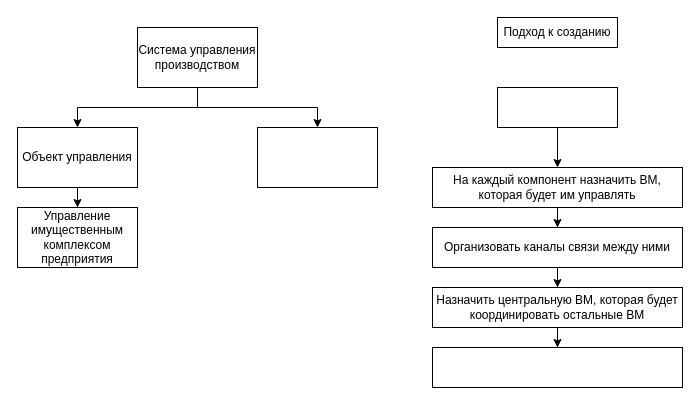
Image size: 700x405. Some labels were removed from this diagram. Each missing label, with the box of its shape:
Организовать каналы связи между центральной ВМ и распределенными ВМ: (432, 346, 682, 388)
Разделить ИК на компоненты: (496, 86, 618, 128)
Устройство управления: (256, 126, 378, 188)
